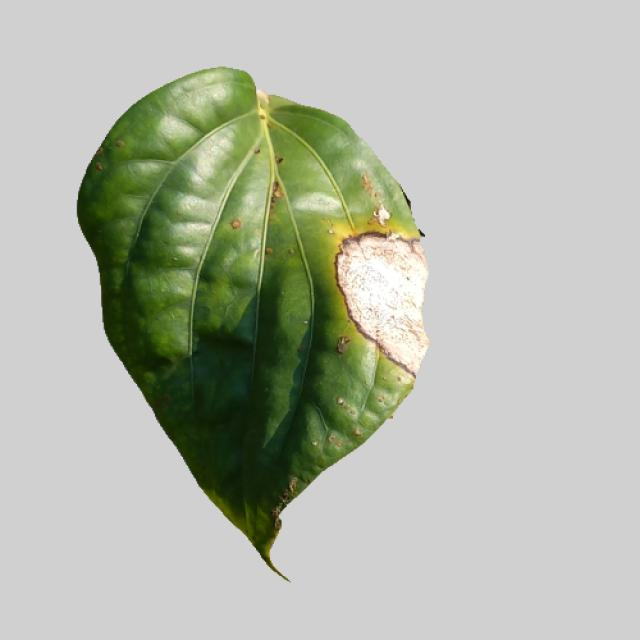leaf-blight: (63, 76, 434, 581)
